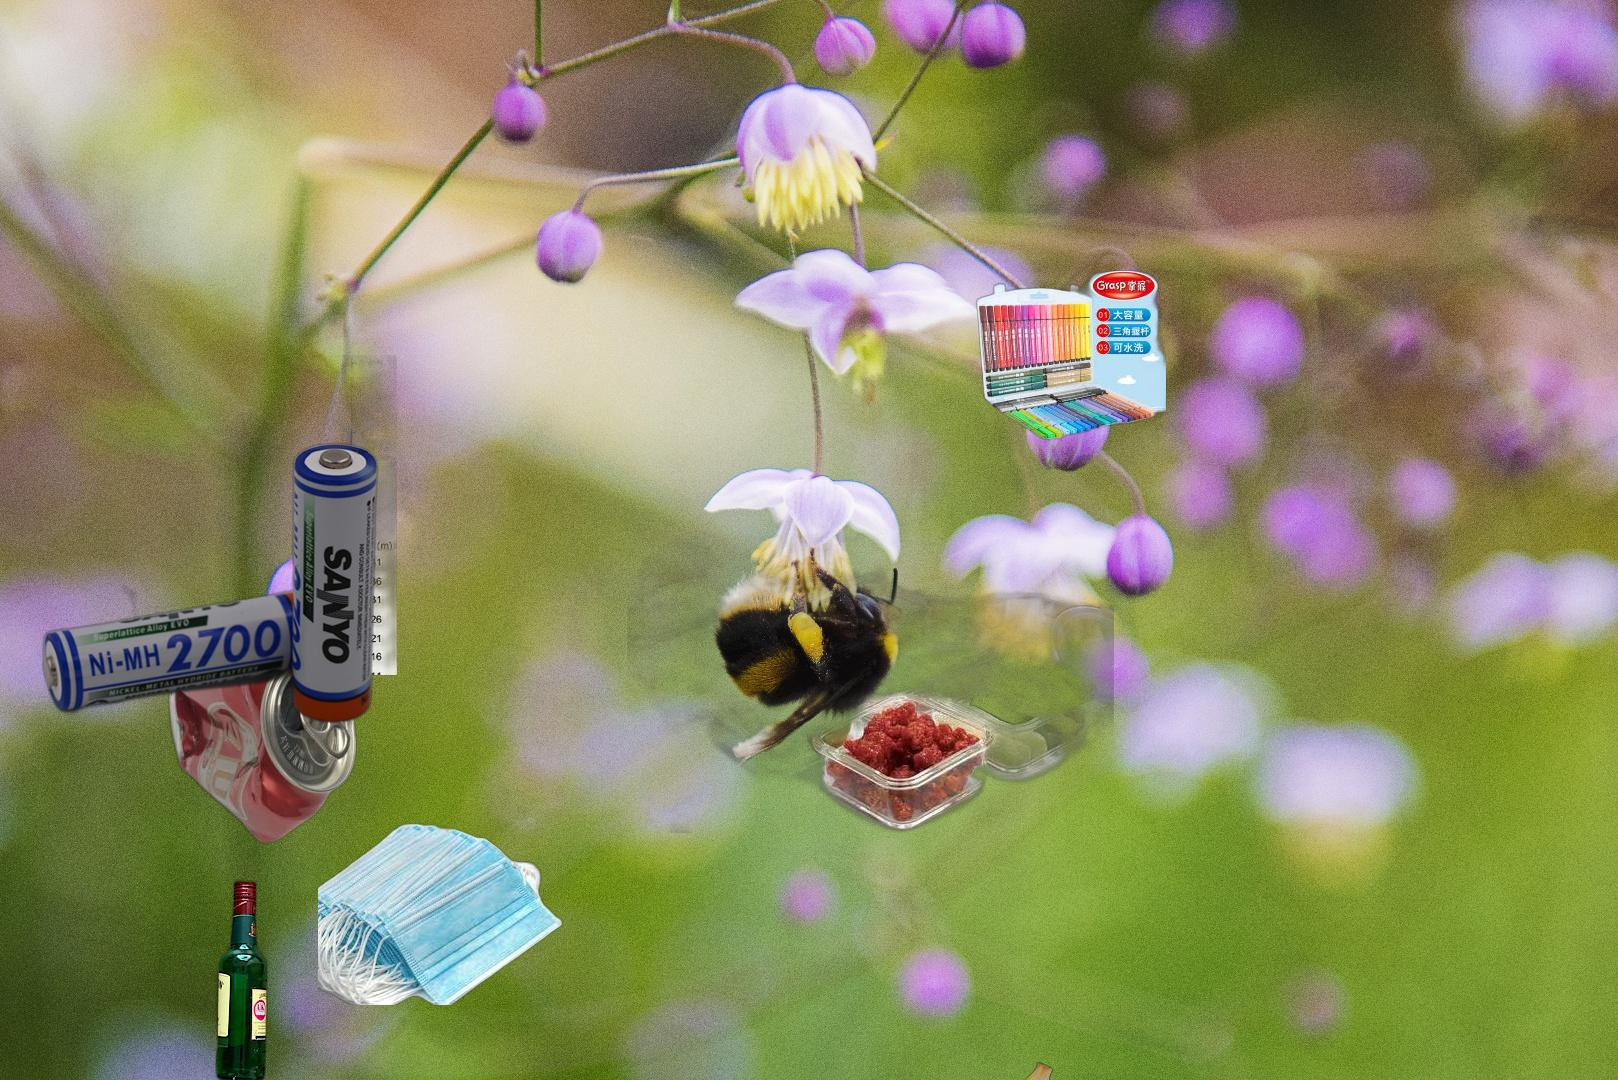battery: (39, 440, 382, 727)
biological: (626, 532, 1114, 833)
glass: (211, 875, 271, 1080)
metal-cans: (164, 607, 361, 847)
penholder: (973, 262, 1166, 442)
plastic-bag: (939, 1060, 1126, 1080)
trash: (318, 822, 566, 1005)
trashbox-cardboard: (77, 356, 398, 675)
